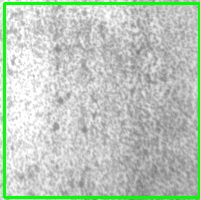pitted_surface: (4, 3, 199, 197)
